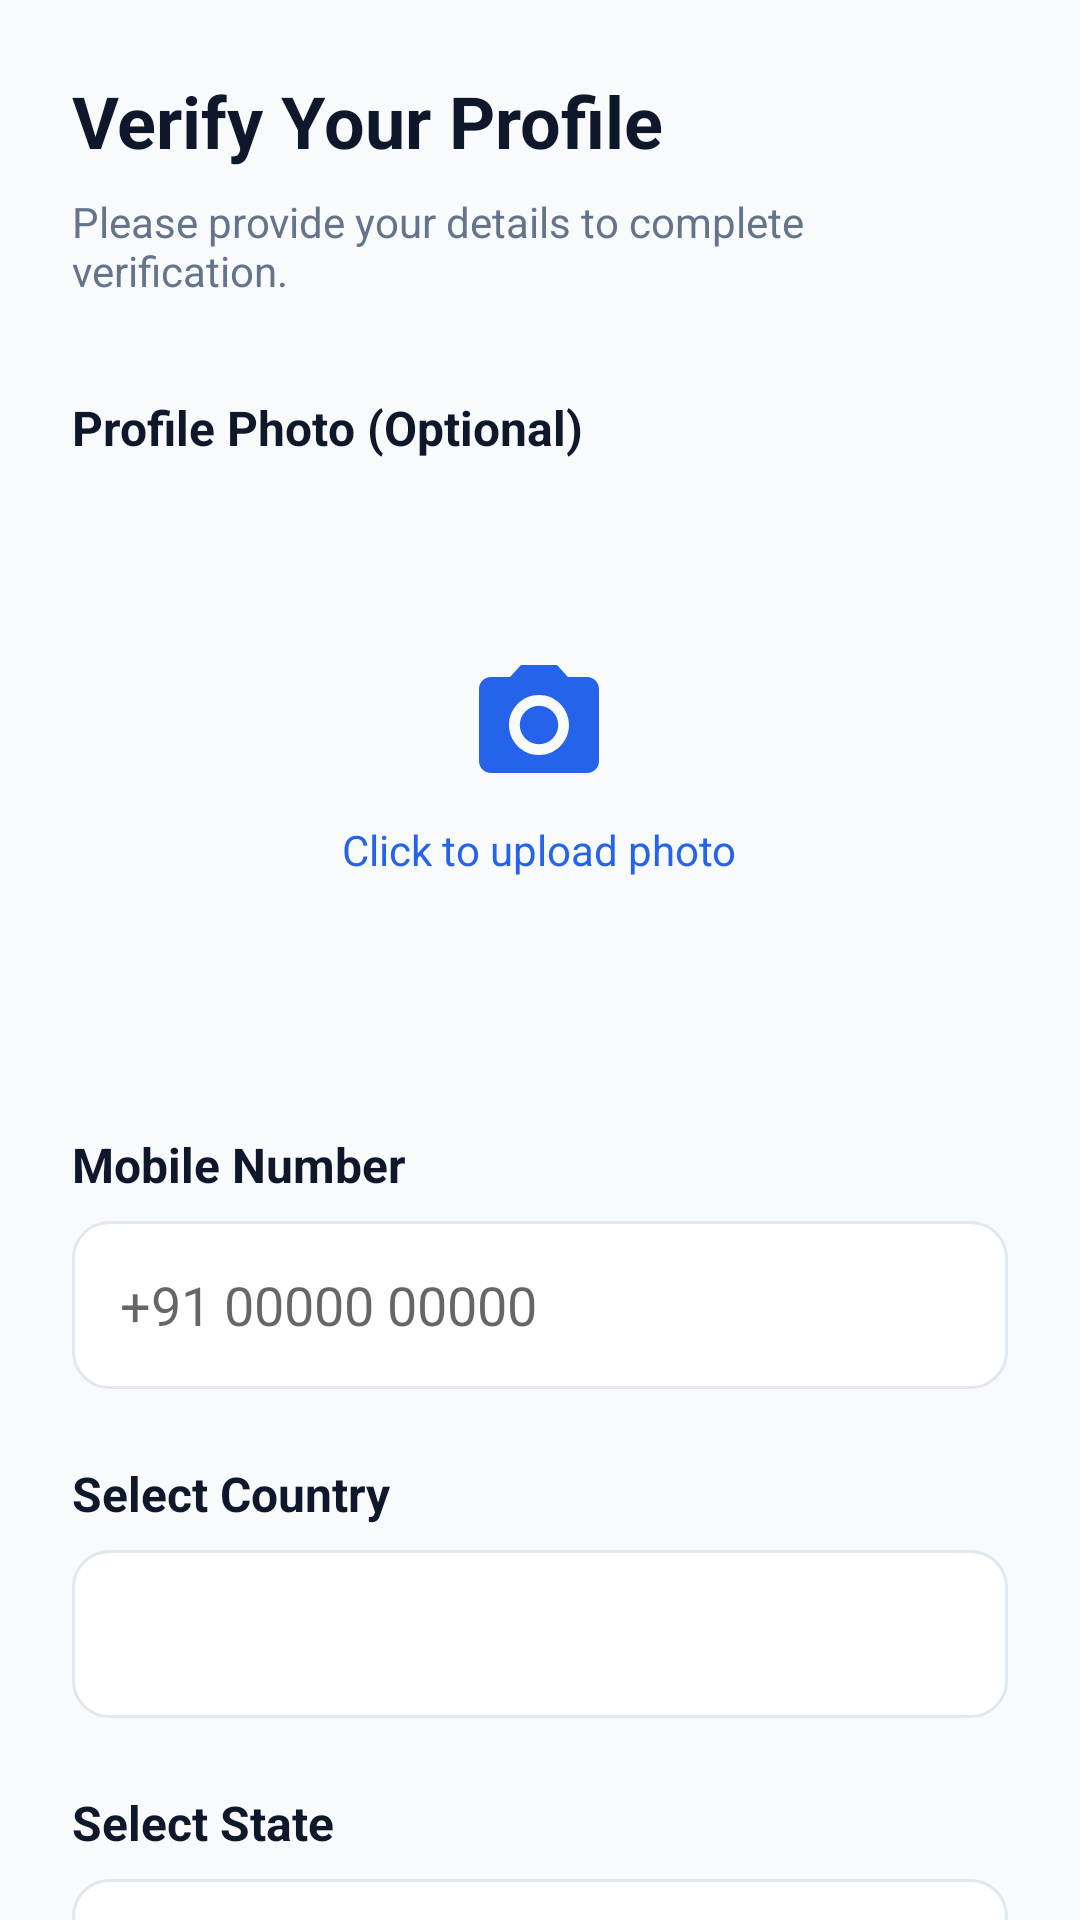

Named icons in this screenshot (1080px x 1920px) and their bounding boxes, (x1, y1, x2, y2):
camera: (479, 665, 599, 773)
